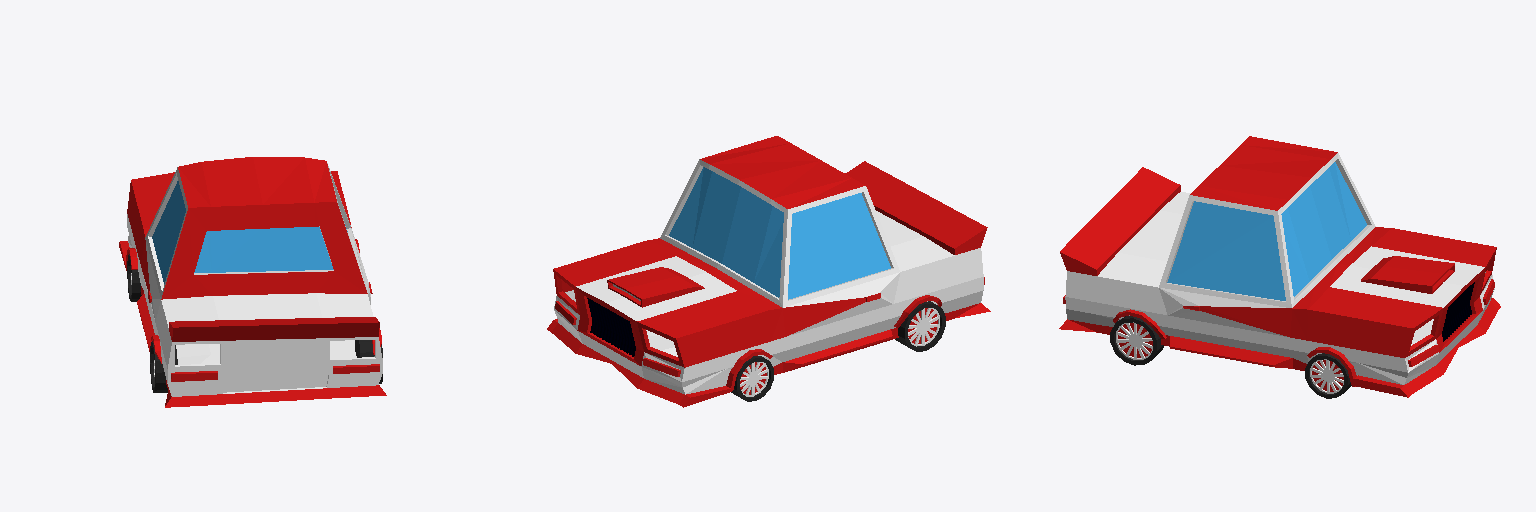
Rendered from car.obj.
The picture shows the model from 3 angles: view 1: azimuth 30°, elevation 25°; view 2: azimuth 150°, elevation 25°; view 3: azimuth 270°, elevation 25°; orthographic projection.
Visible parts, largest first — view 1: body_ID56, wheel.1_ID84; view 2: body_ID56, wheel.1_ID84, lattice.1_ID29, wheel1.1_ID93; view 3: body_ID56, wheel.1_ID84, wheel1.1_ID93, lattice.1_ID29.
Boxes of the visible parts, <box> form: body_ID56: <box>119,157,386,407</box>; wheel.1_ID84: <box>150,340,382,392</box>; body_ID56: <box>547,136,990,407</box>; wheel.1_ID84: <box>895,301,945,351</box>; lattice.1_ID29: <box>587,298,635,356</box>; wheel1.1_ID93: <box>731,356,773,401</box>; body_ID56: <box>1059,136,1500,397</box>; wheel.1_ID84: <box>1110,316,1163,365</box>; wheel1.1_ID93: <box>1305,353,1351,398</box>; lattice.1_ID29: <box>1442,282,1474,341</box>.
Bounding box in the file's own units: 9.28 × 4.77 × 11.33.